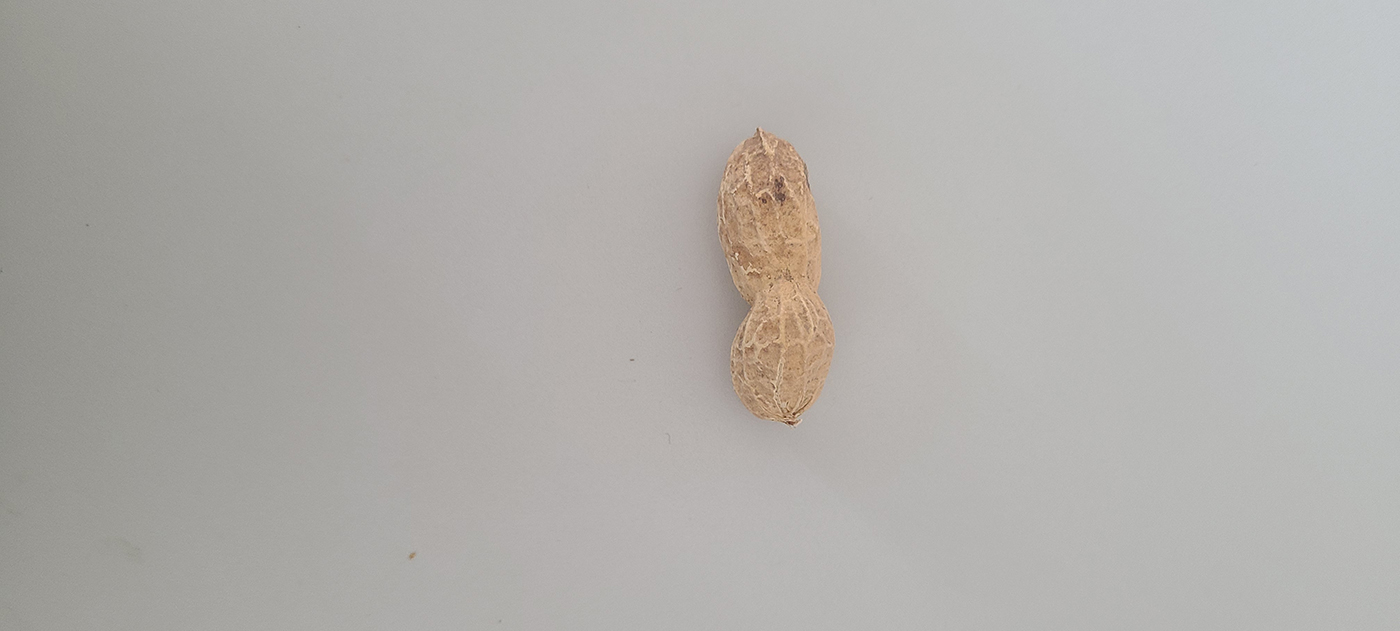h: (716, 128, 836, 426)
